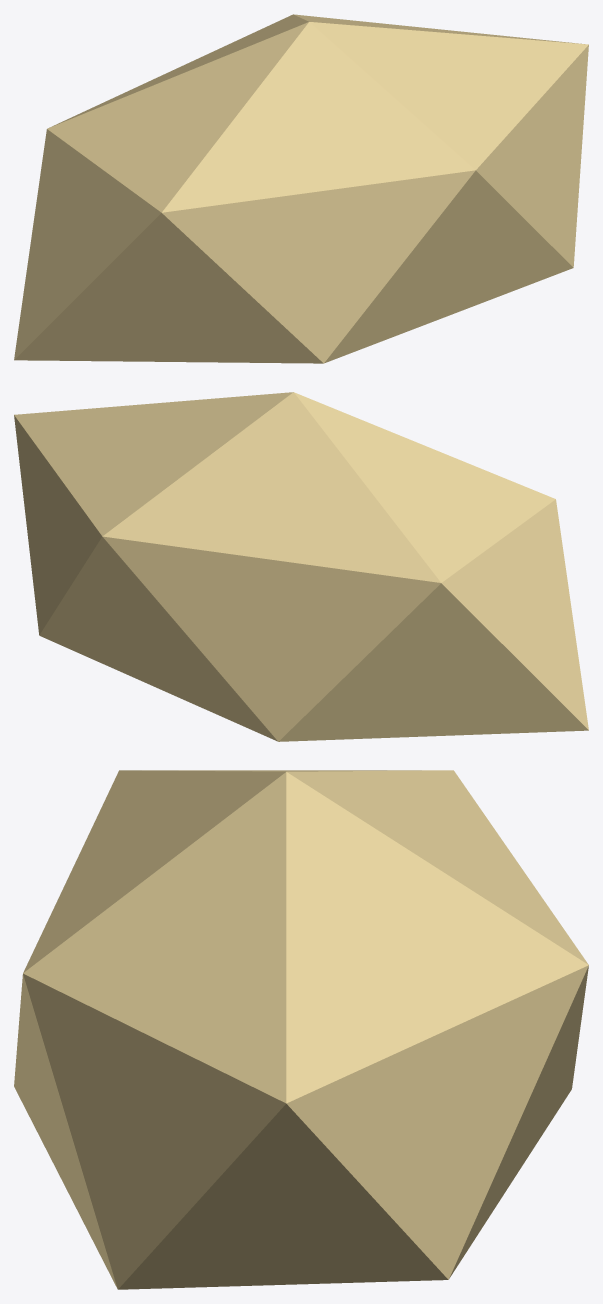
File: item_043_flour_s.glb
3 views of the same model, one above another, from view 1: azimuth 30°, elevation 25°; view 2: azimuth 150°, elevation 25°; view 3: azimuth 270°, elevation 25° (orthographic). The views are drawn at different scales.
Visible parts, largest first — view 1: item_043_flour_s; view 2: item_043_flour_s; view 3: item_043_flour_s.
Boxes of the visible parts, <box> form: item_043_flour_s: <box>14,14,588,363</box>; item_043_flour_s: <box>14,392,588,741</box>; item_043_flour_s: <box>14,770,588,1289</box>.
Size of the model in its own units: 0.3422 by 0.1903 by 0.2032.
